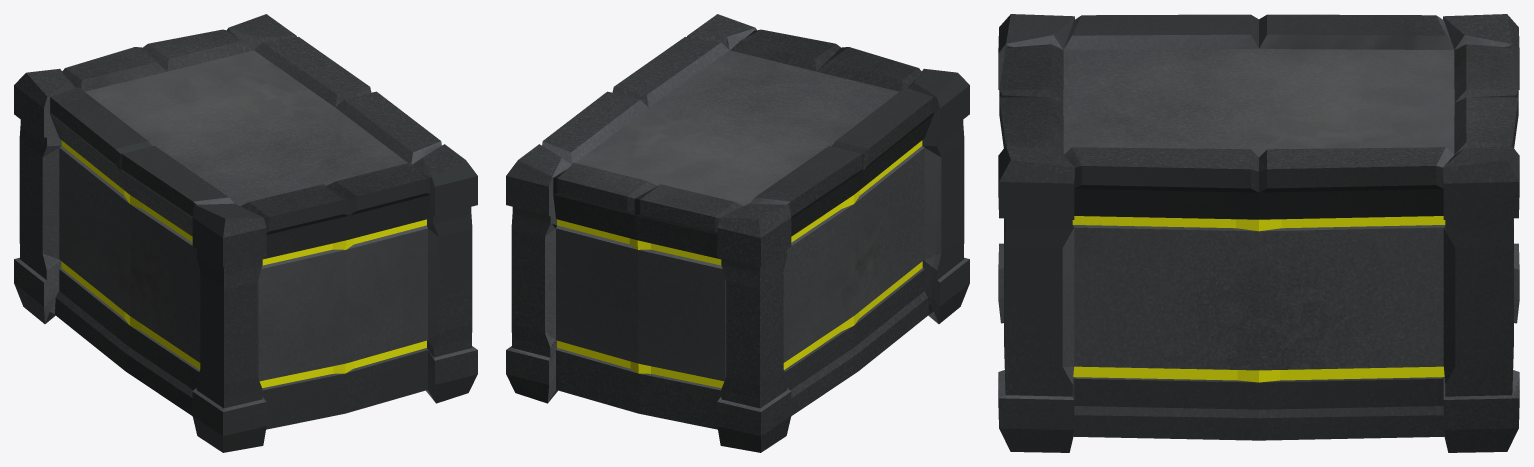
Rendered from Box1yellowmesh.fbx.
3 renders of one model, left to right at view 1: azimuth 30°, elevation 25°; view 2: azimuth 150°, elevation 25°; view 3: azimuth 270°, elevation 25°, orthographic. The views are drawn at different scales.
Visible parts, largest first — view 1: Cube; view 2: Cube; view 3: Cube.
Part boxes in pixels (left/top/right/bottom): Cube: left=14, top=14, right=477, bottom=452; Cube: left=506, top=14, right=969, bottom=452; Cube: left=998, top=14, right=1519, bottom=452.
Bounding box in the file's own units: 204 × 178 × 289.
Materials: 1 (1 with a texture image).
